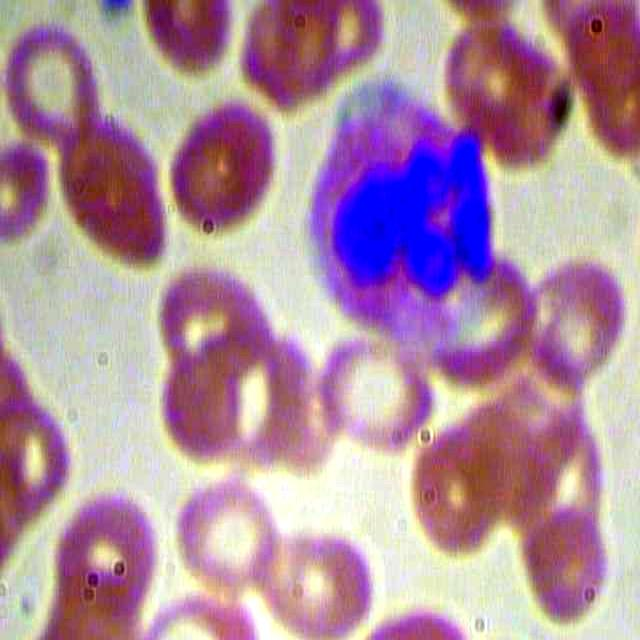RBC: (439, 13, 580, 176), (48, 104, 179, 276), (161, 100, 286, 247), (516, 244, 637, 395), (315, 322, 436, 458), (173, 468, 291, 599), (47, 481, 165, 612), (1, 15, 118, 145), (519, 504, 624, 629)
WBC: (293, 76, 498, 347)
